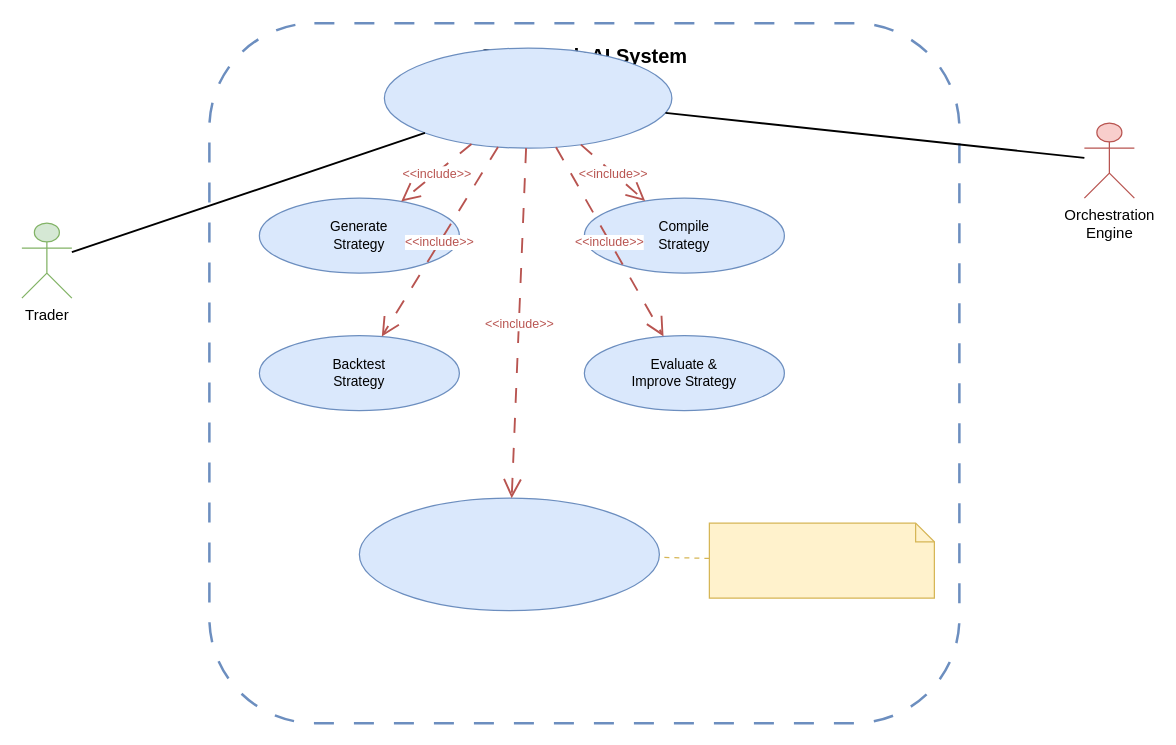
Image size: 1176x745. Some labels were removed from this diagram. The shapes that lost their labels are listed below. From the top down, each one's centre as x and y in pixels, then its label:
At point 527,97: "Execute Iterative Optimization Loop (FR09-01)".
At point 508,554: "Terminate Loop on Acceptable Performance or Max Iterations (FR09-02)".
At point 821,560: "Loop repeats until performance threshold met or max iterations reached".
